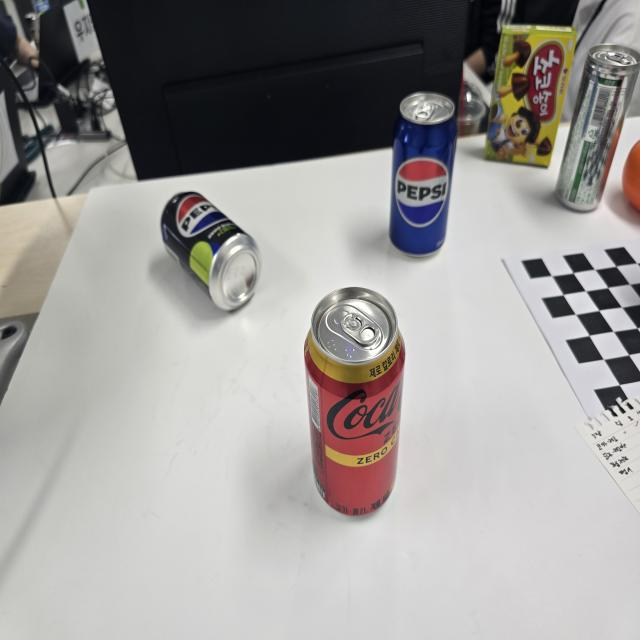can_coke_decaf: (302, 288, 405, 514)
can_pepsi: (391, 91, 457, 251)
can_pepsi_zero: (162, 194, 262, 310)
